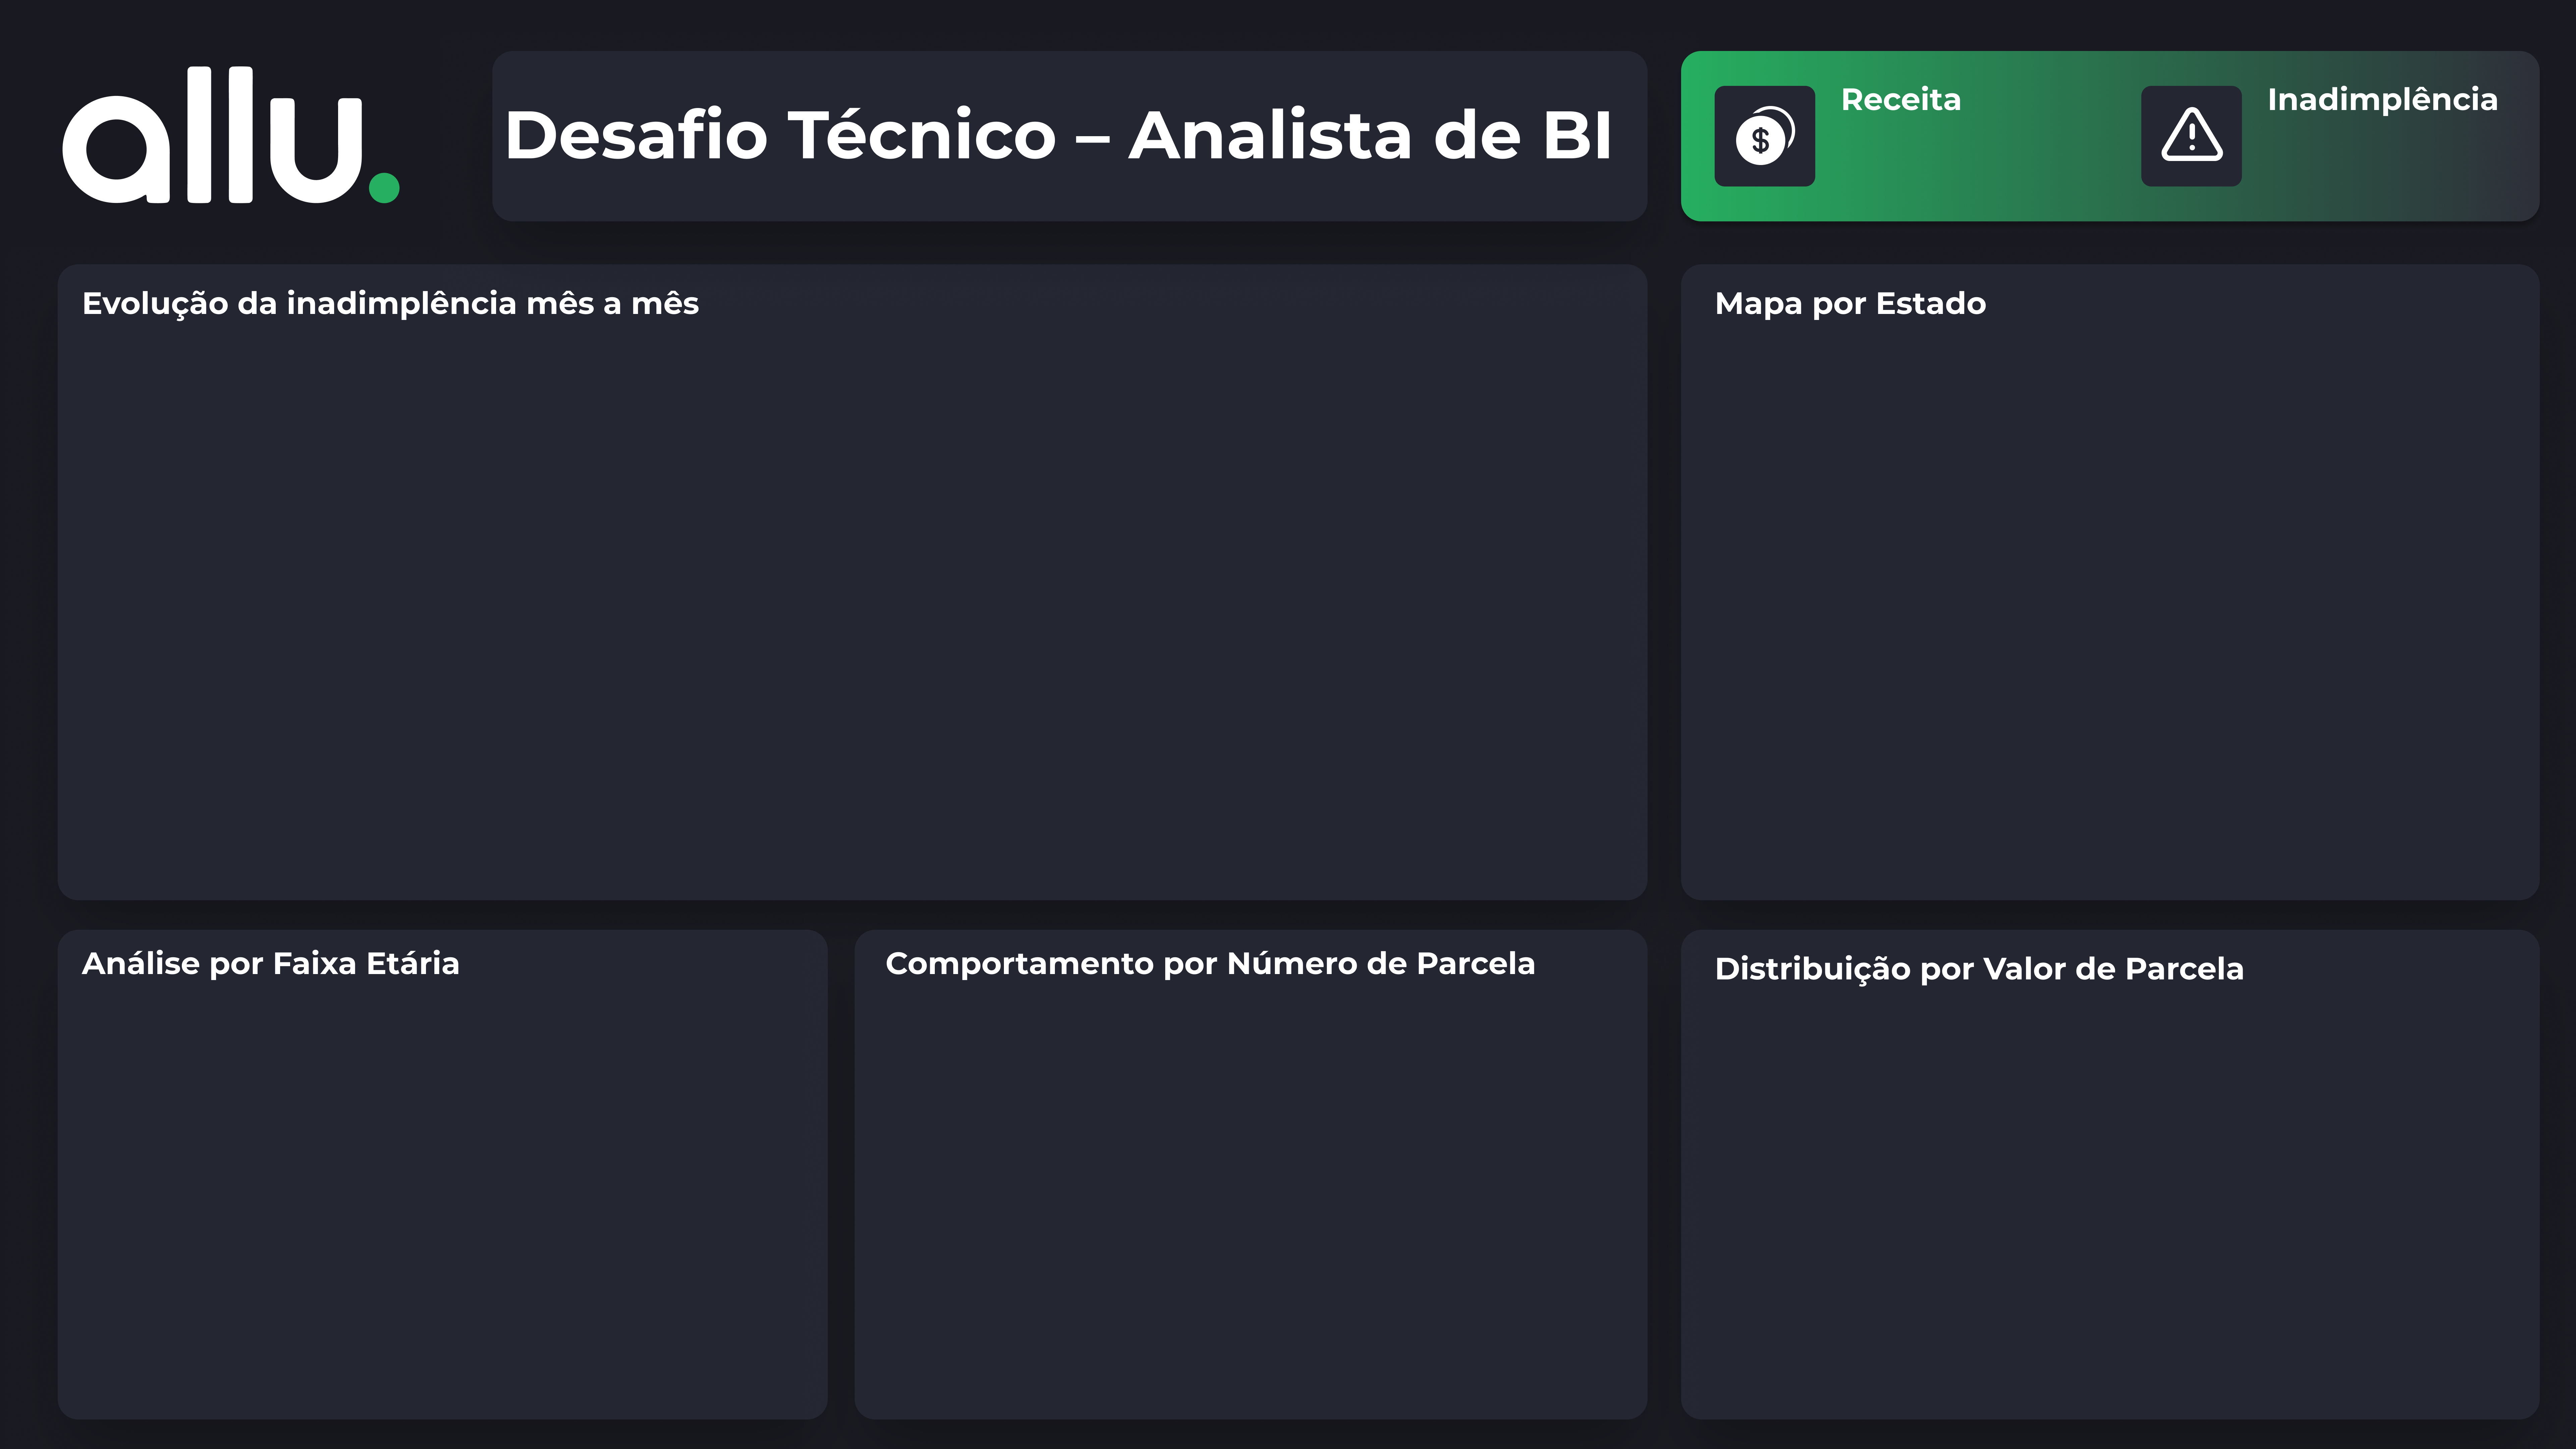

This screenshot's page, from the dashboard's own definition file:
{"tool":"powerbi","page":{"name":"Dash","canvas":[1280,720],"ordinal":0},"visuals":[{"type":"lineChart","fields":{"Category":["d_Calendario.Mês Ano"],"Y":["Medidas.Taxa_Failed_Chargedback"]},"box":[30.7,159.9,786.9,283.9],"z":0},{"type":"filledMap","fields":{"Category":["d_Estados.Estado"]},"box":[842.2,159.9,413.1,283.9],"z":1000},{"type":"barChart","fields":{"Category":["f_Base.faixa_etaria"],"Y":["Medidas.Taxa_Failed_Chargedback"]},"box":[30.7,488.4,380.5,215.2],"z":2000},{"type":"lineChart","fields":{"Category":["f_Base.parcela_recorrencia"],"Y":["Medidas.Taxa_Failed_Chargedback"]},"box":[424.4,488.4,393.1,215.2],"z":3000},{"type":"clusteredColumnChart","fields":{"Category":["f_Base.faixa_valor"],"Y":["Medidas.Taxa_Inadimplencia"]},"box":[837.6,488.4,422.4,215.2],"z":4000},{"type":"PBI_CV_7B952816_A48F_49B4_9E13_15E3BB2C0337","fields":{"Values":["Sum(f_Base.valor_parcela)"]},"box":[914.2,53.3,146.6,38],"z":5000},{"type":"PBI_CV_7B952816_A48F_49B4_9E13_15E3BB2C0337","fields":{"Values":["Medidas.Taxa_Failed_Chargedback"]},"box":[1126.7,53.3,127.9,38],"z":5001}]}

Visuals, with their boxes in screenshot pixels (x1, y1, x2, y2), scaled from the page's 1280x720 canvas onto the 2576x1449 screenshot:
lineChart - d_Calendario.Mês Ano x Medidas.Taxa_Failed_Chargedback: <bbox>62, 322, 1646, 893</bbox>
filledMap - d_Estados.Estado: <bbox>1695, 322, 2526, 893</bbox>
barChart - f_Base.faixa_etaria x Medidas.Taxa_Failed_Chargedback: <bbox>62, 983, 827, 1416</bbox>
lineChart - f_Base.parcela_recorrencia x Medidas.Taxa_Failed_Chargedback: <bbox>854, 983, 1645, 1416</bbox>
clusteredColumnChart - f_Base.faixa_valor x Medidas.Taxa_Inadimplencia: <bbox>1686, 983, 2536, 1416</bbox>
PBI_CV_7B952816_A48F_49B4_9E13_15E3BB2C0337 - Sum(f_Base.valor_parcela): <bbox>1840, 107, 2135, 184</bbox>
PBI_CV_7B952816_A48F_49B4_9E13_15E3BB2C0337 - Medidas.Taxa_Failed_Chargedback: <bbox>2267, 107, 2525, 184</bbox>
